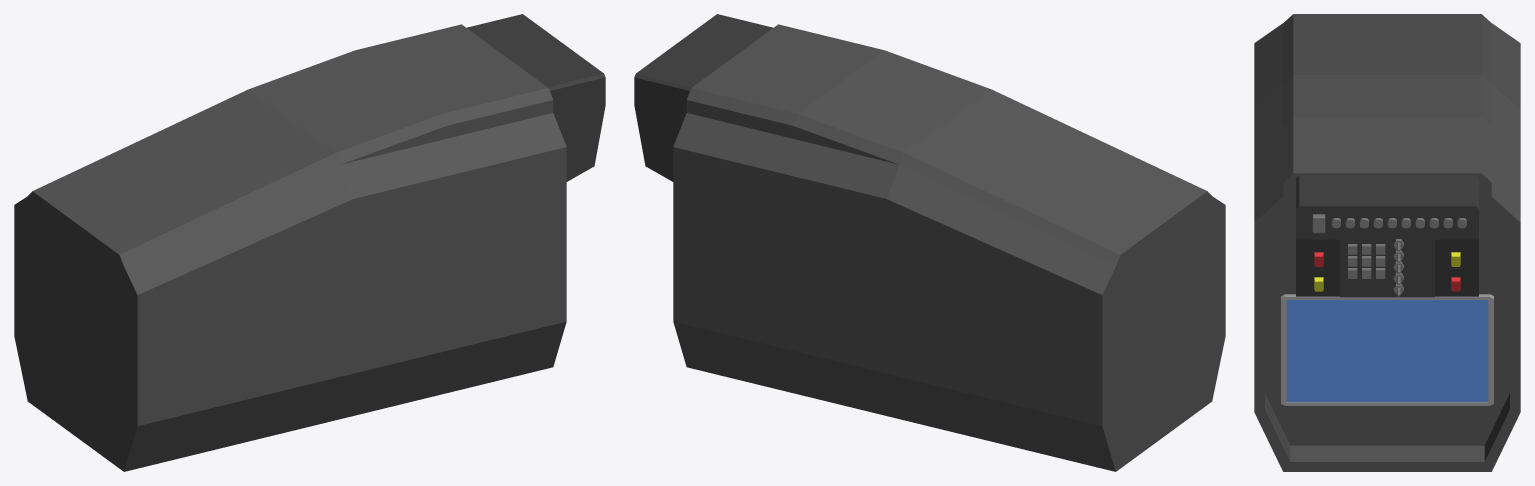
File: Cockpit Main Console.fbx
The picture shows the model from 3 angles, left to right: view 1: azimuth 30°, elevation 25°; view 2: azimuth 150°, elevation 25°; view 3: azimuth 270°, elevation 25°; orthographic projection. The views are drawn at different scales.
Parts seen in each view (by area): view 1: Cube; view 2: Cube; view 3: Cube.
Boxes of the visible parts, left/top/right/bottom form: Cube: left=14, top=14, right=605, bottom=471; Cube: left=634, top=14, right=1225, bottom=471; Cube: left=1254, top=14, right=1520, bottom=471.
Size of the model in its own units: 470 by 247 by 200.
